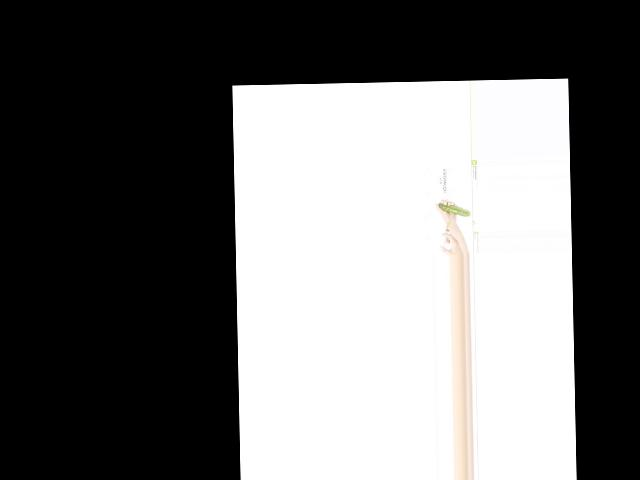cucumber: (438, 202, 470, 217)
